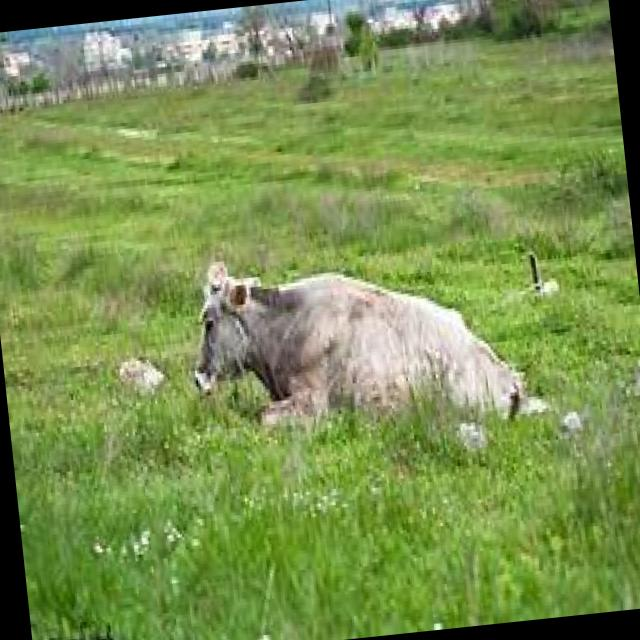cow: (146, 205, 569, 478)
